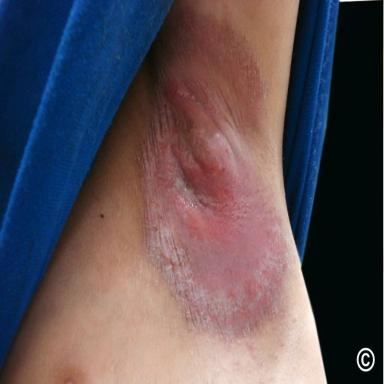Hailey-Hailey-Disease: (139, 19, 295, 338)
